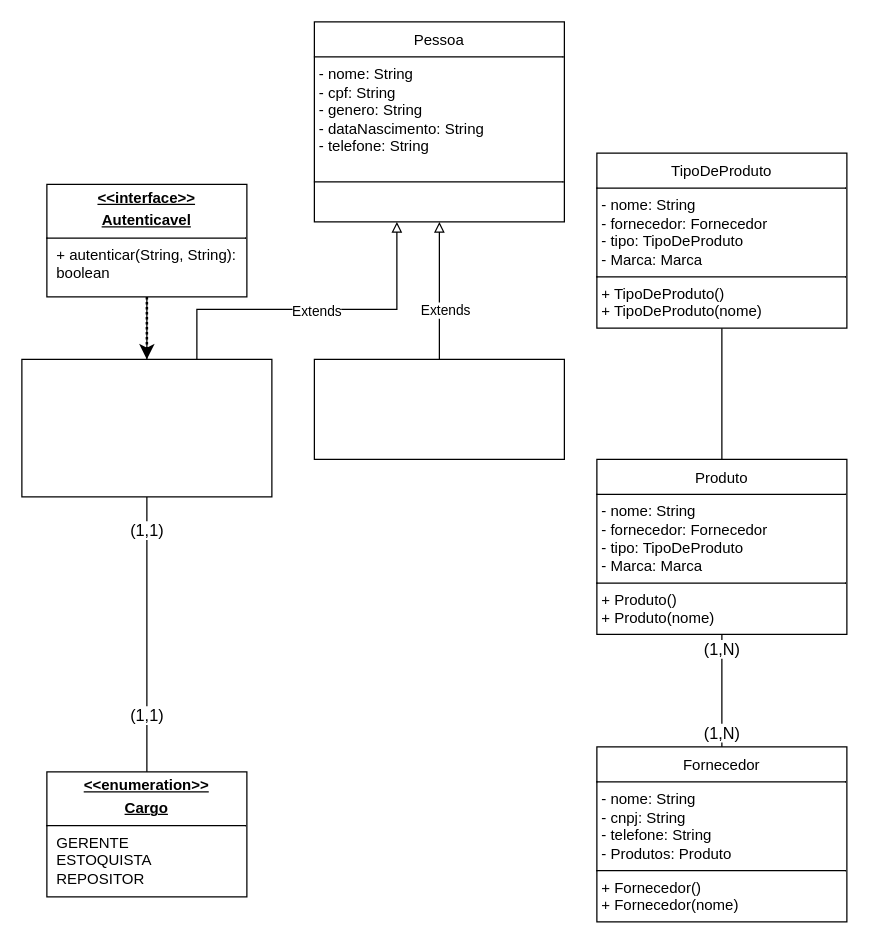
The diagram is 869 pixels wide and 944 high, and some of its shapes have lost their labels. Each missing label, with the centre of its shape:
"Cliente - divida: float" goes at (438,408).
"Usuario - cargo: String - login: String - senha: String" goes at (146,427).
